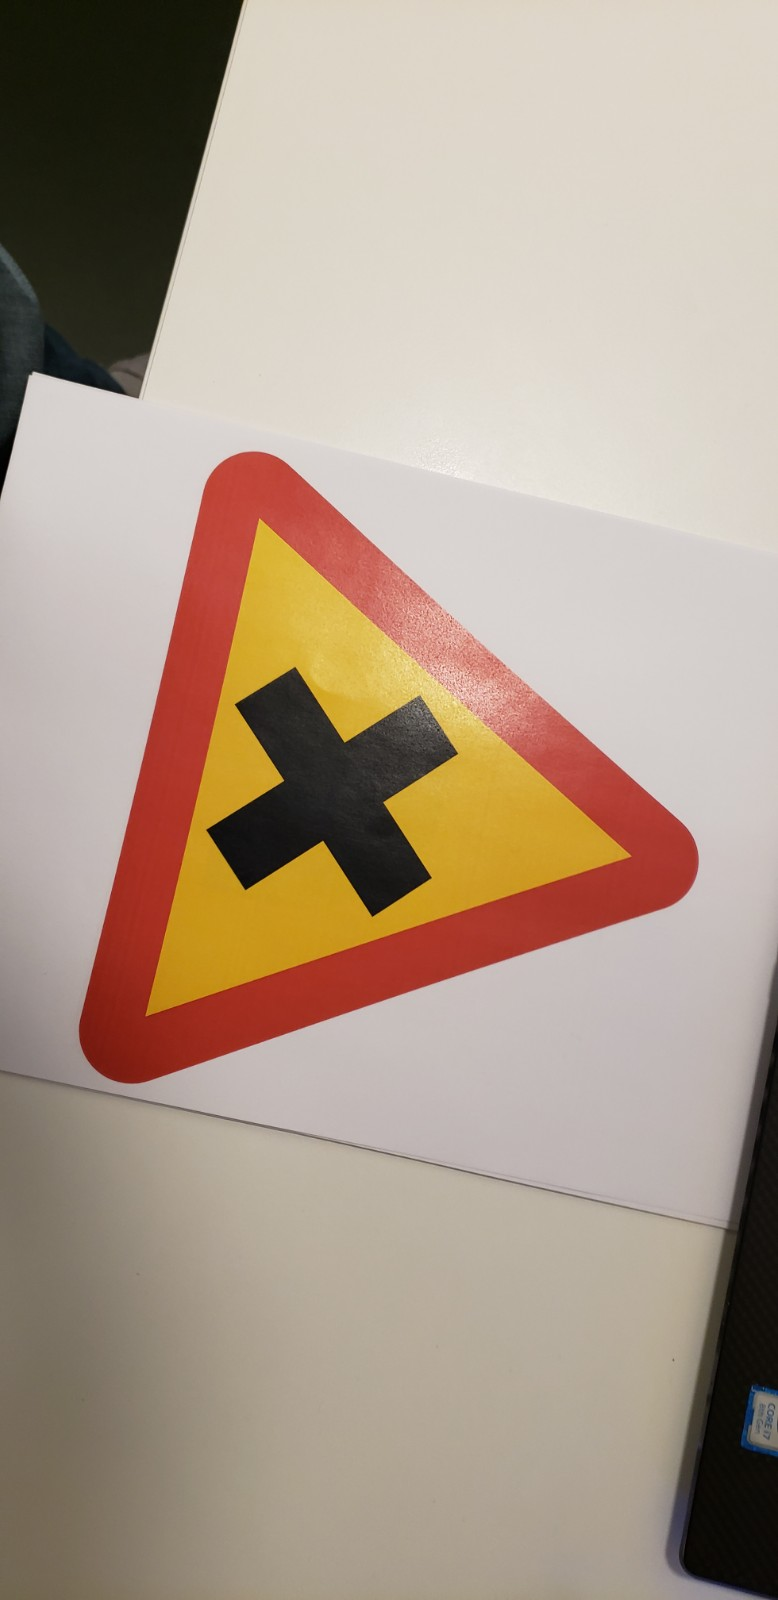junction: (77, 372, 724, 1115)
